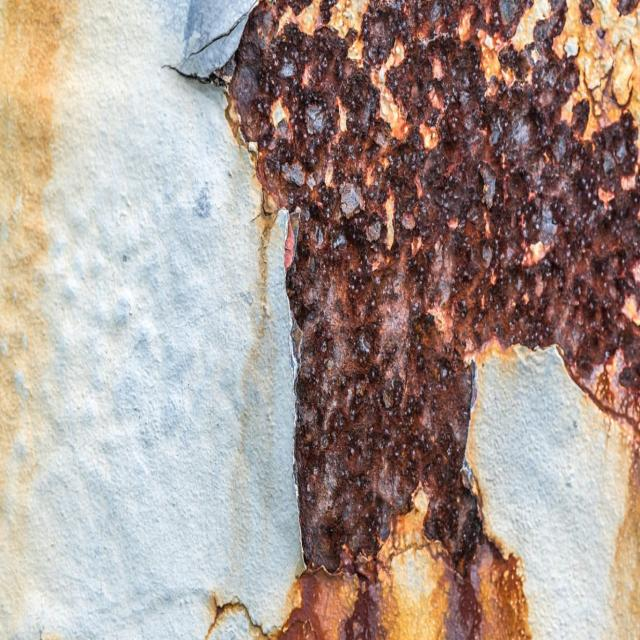Pitting Corrosion: (228, 0, 640, 569)
